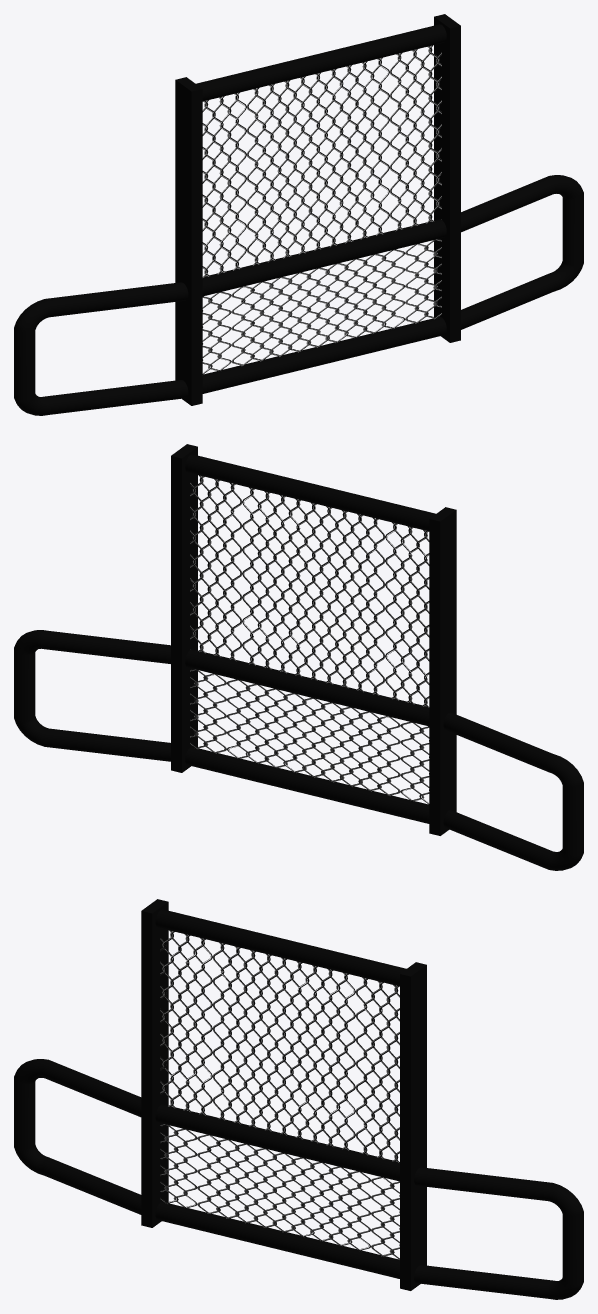
3 renders of one model, top to bottom at view 1: azimuth 30°, elevation 25°; view 2: azimuth 150°, elevation 25°; view 3: azimuth 330°, elevation 25°, orthographic.
Parts seen in each view (by area): view 1: polySurface2; view 2: polySurface2; view 3: polySurface2.
Part boxes in pixels (bbox=[...]): polySurface2: bbox=[14, 14, 583, 415]; polySurface2: bbox=[14, 444, 583, 870]; polySurface2: bbox=[14, 899, 583, 1299].
Bounding box in the file's own units: 0.0707 × 0.0375 × 0.00646.
